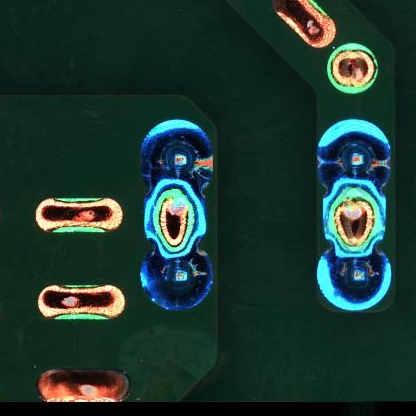spot: (315, 119, 392, 189), (139, 120, 214, 184), (315, 251, 391, 311), (141, 251, 214, 310)
